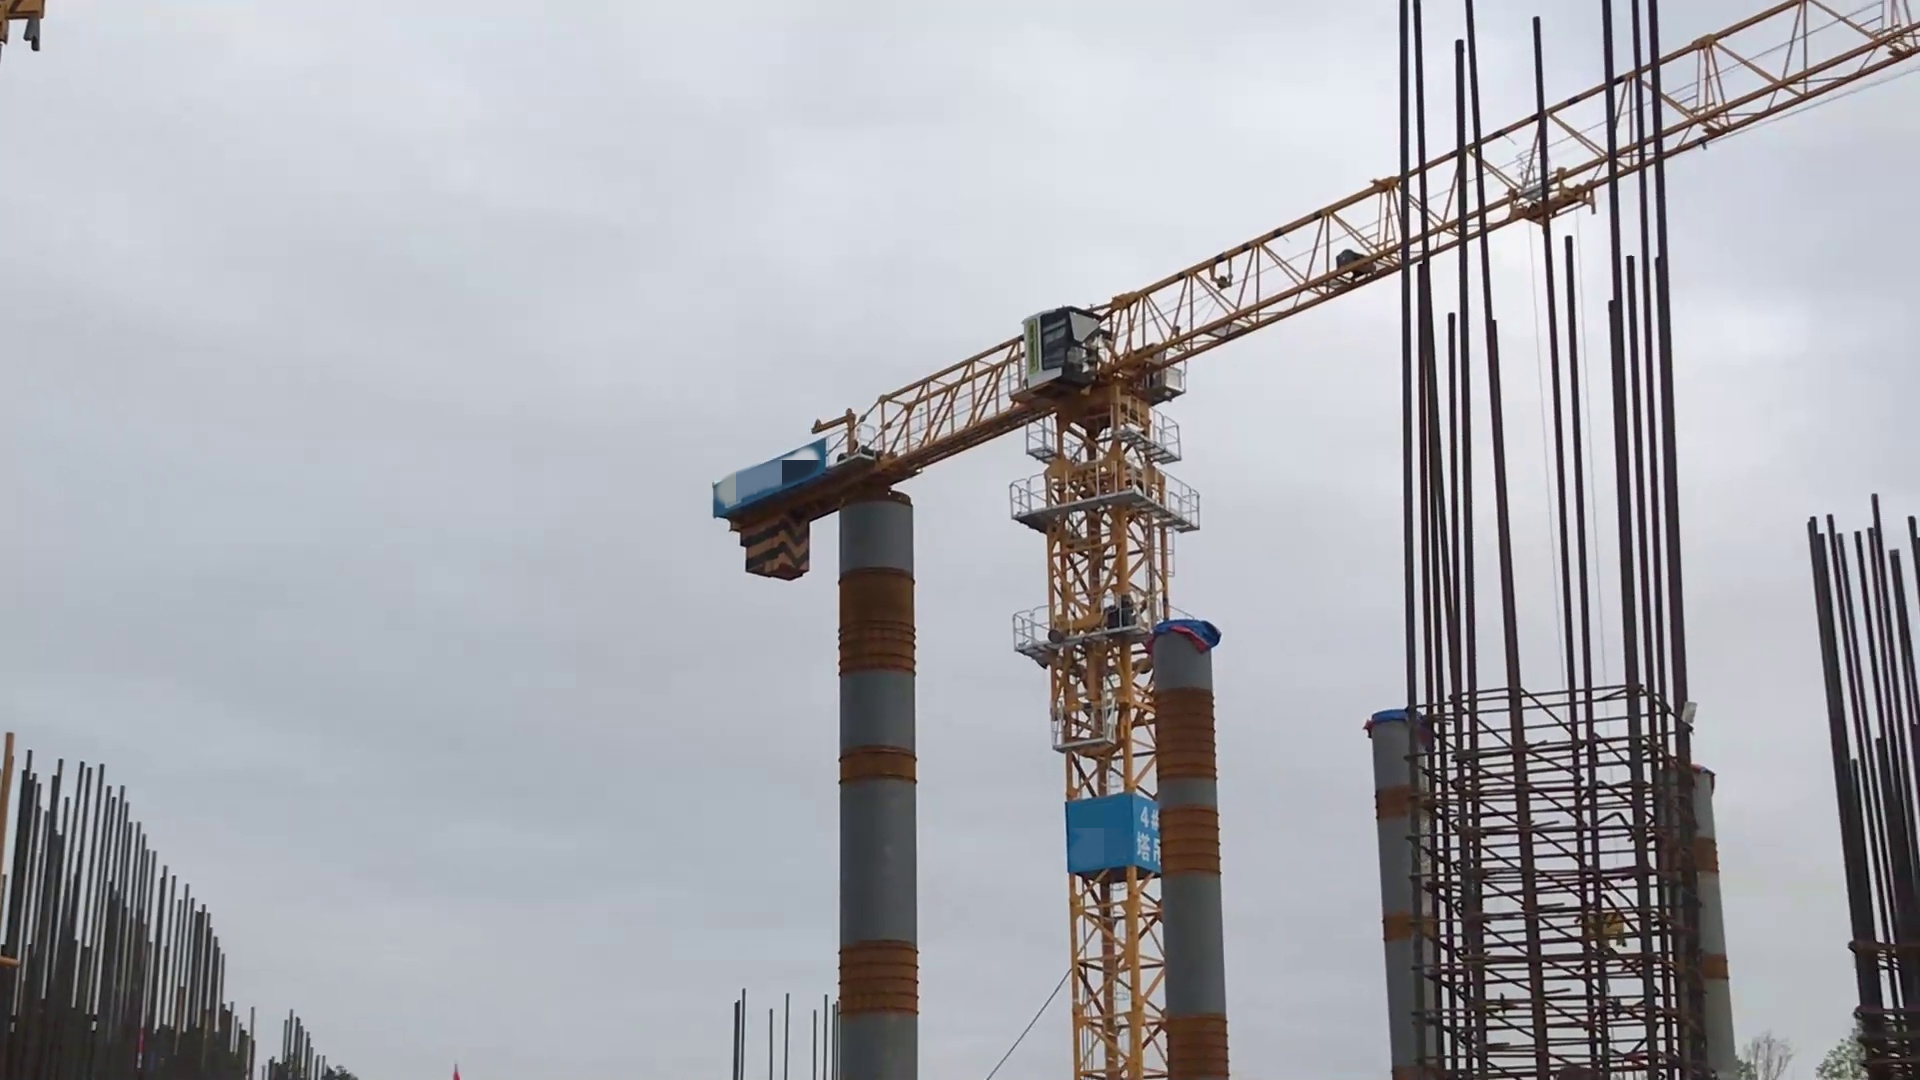hook: (1, 1, 55, 73)
